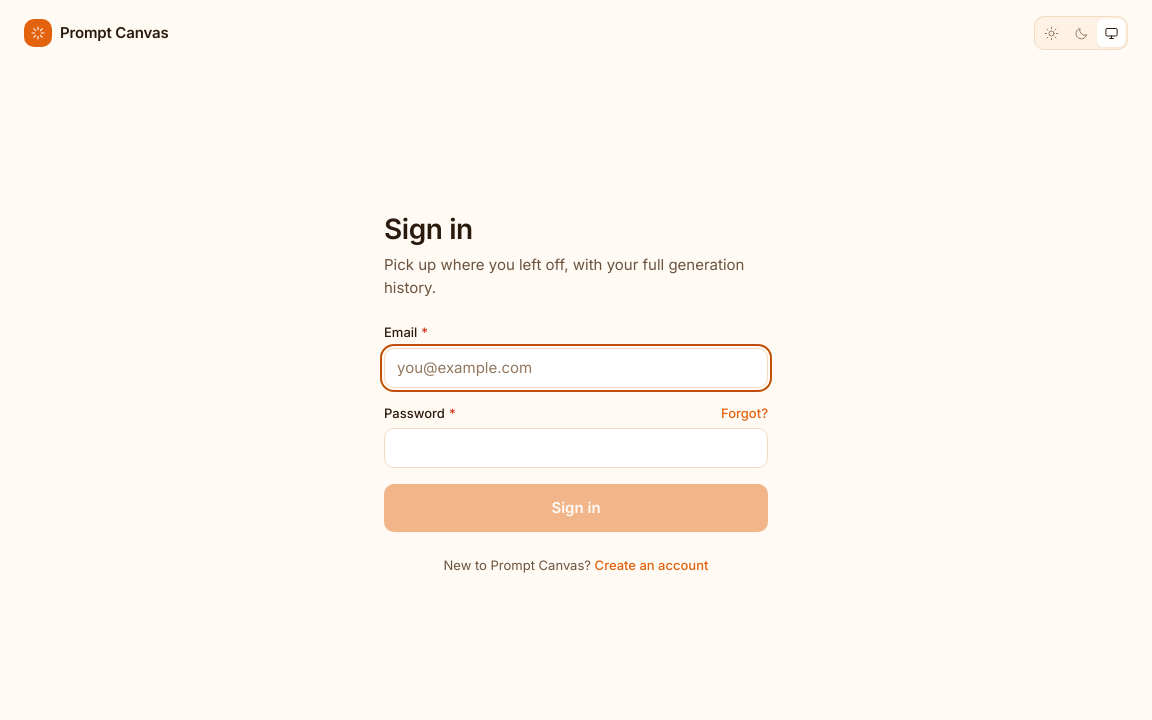
Scenario: sign in › does not reveal which field was wrong
Type "painter@example.com" into the field labelled "Email*" at (576, 368), box 384,348 -> 768,388
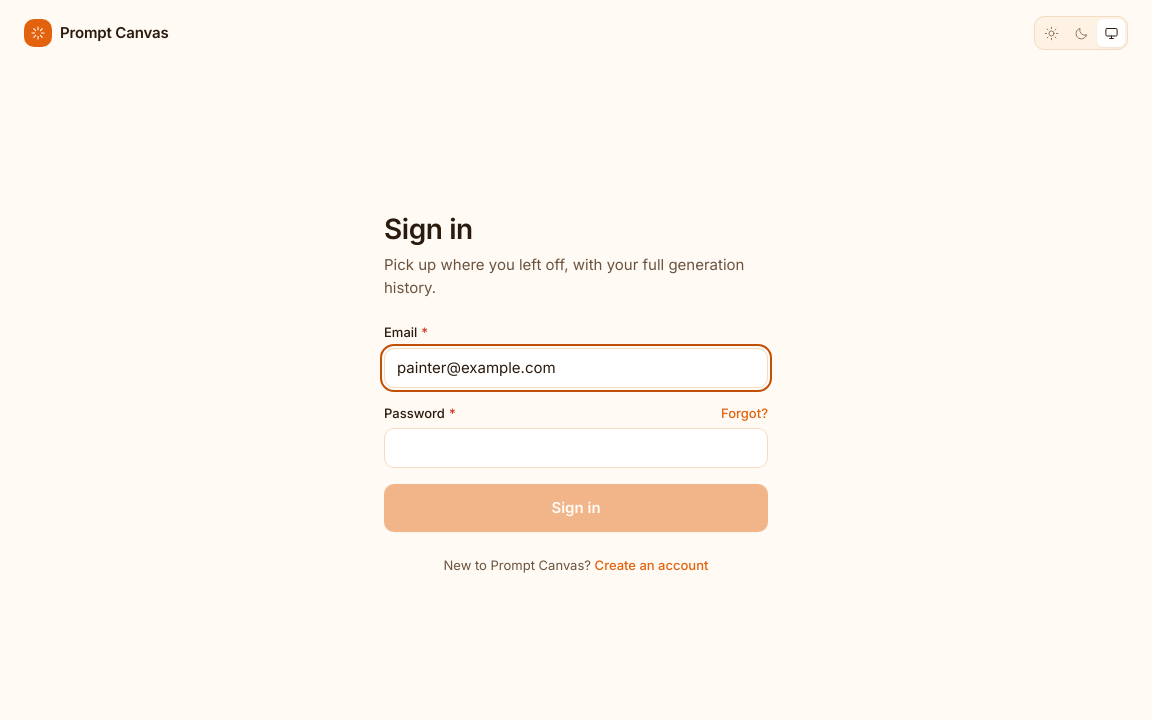
Type "wrong-password" into the password field labelled "Password*" at (576, 448), box 384,428 -> 768,468
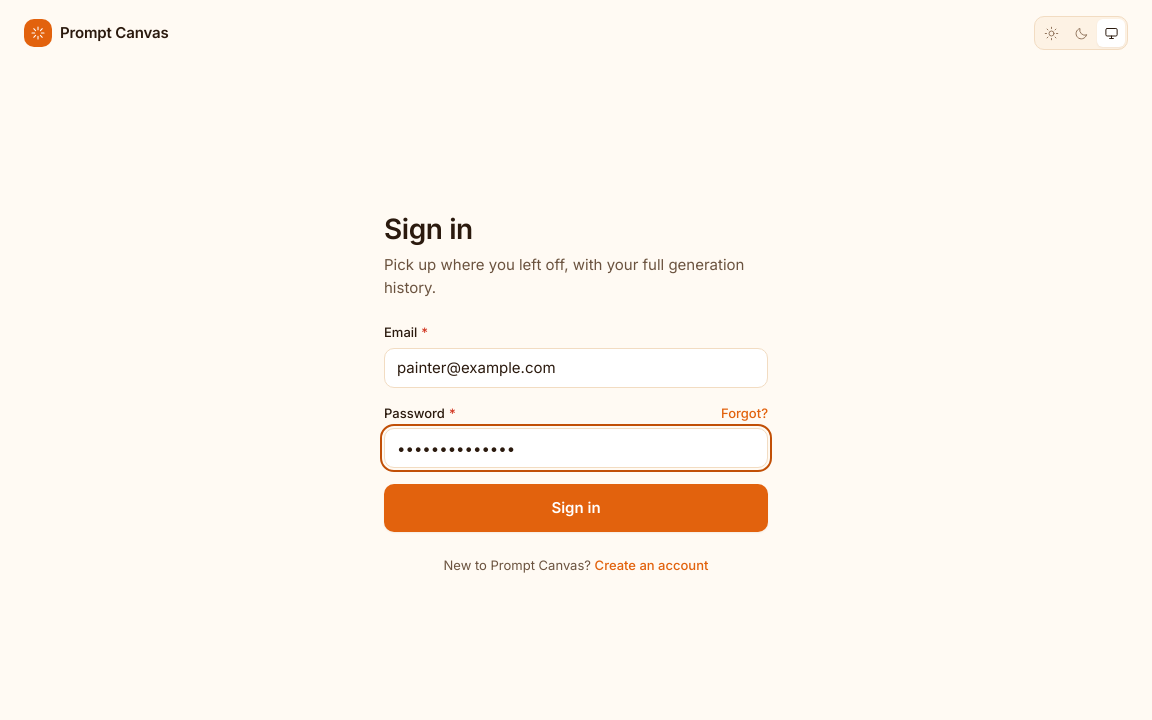
Click the button "Sign in" at (576, 508), box 384,484 -> 768,532
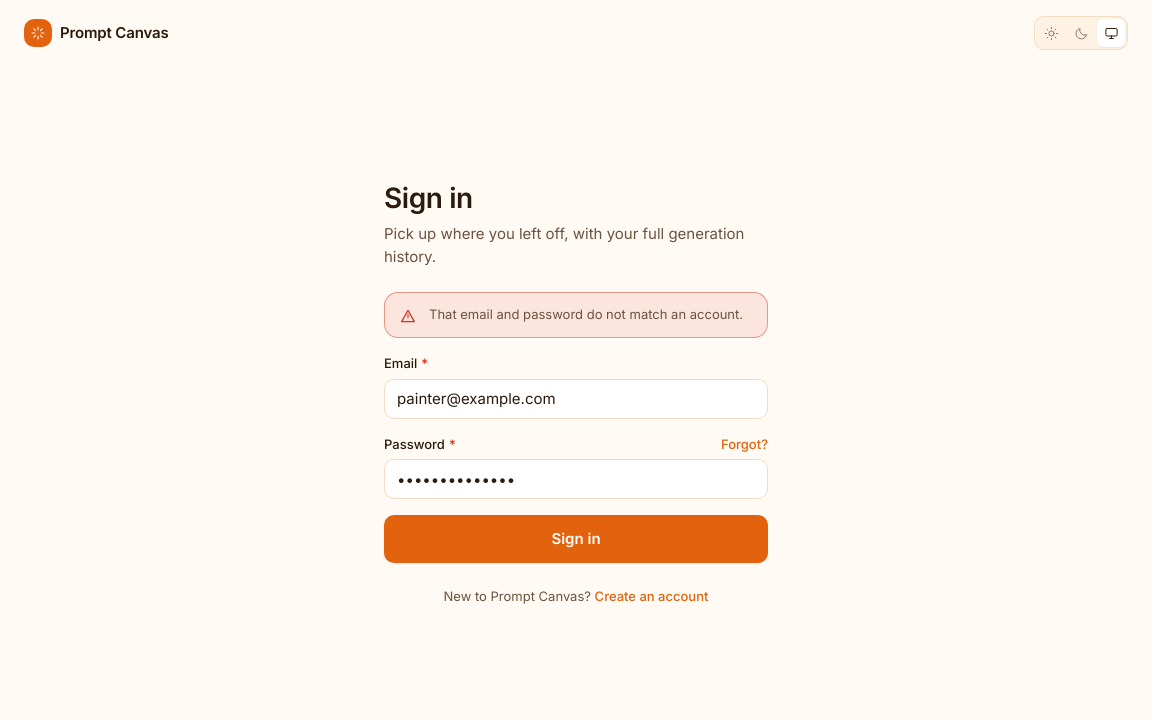
Expected: the message shows "email and password do not match", 429,306 -> 743,322
